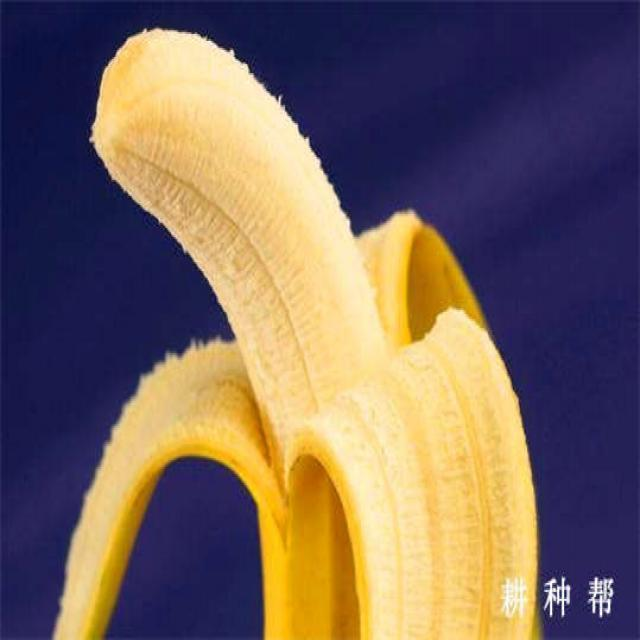banana-peel: (47, 25, 545, 639)
